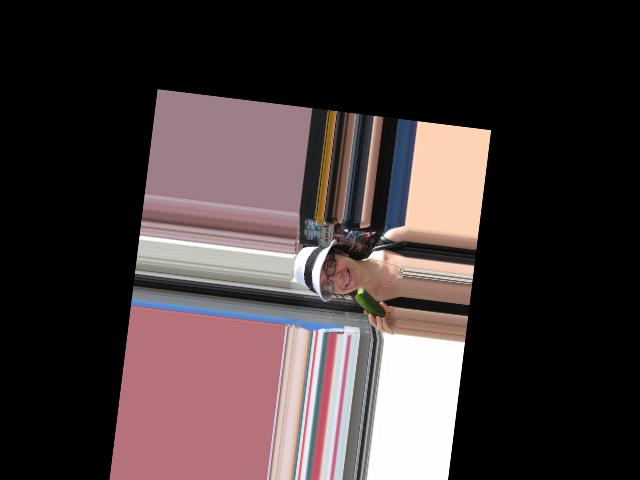cucumber: (353, 287, 388, 319)
